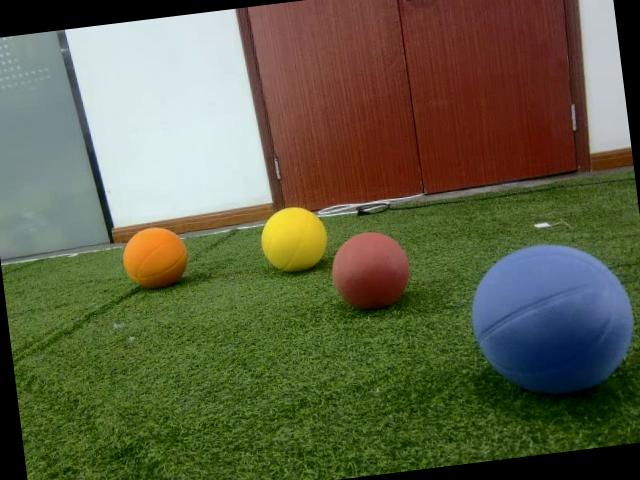blue_ball: (462, 234, 640, 403)
orange_ball: (118, 223, 192, 292)
red_ball: (326, 228, 414, 313)
yellow_ball: (256, 203, 330, 275)
